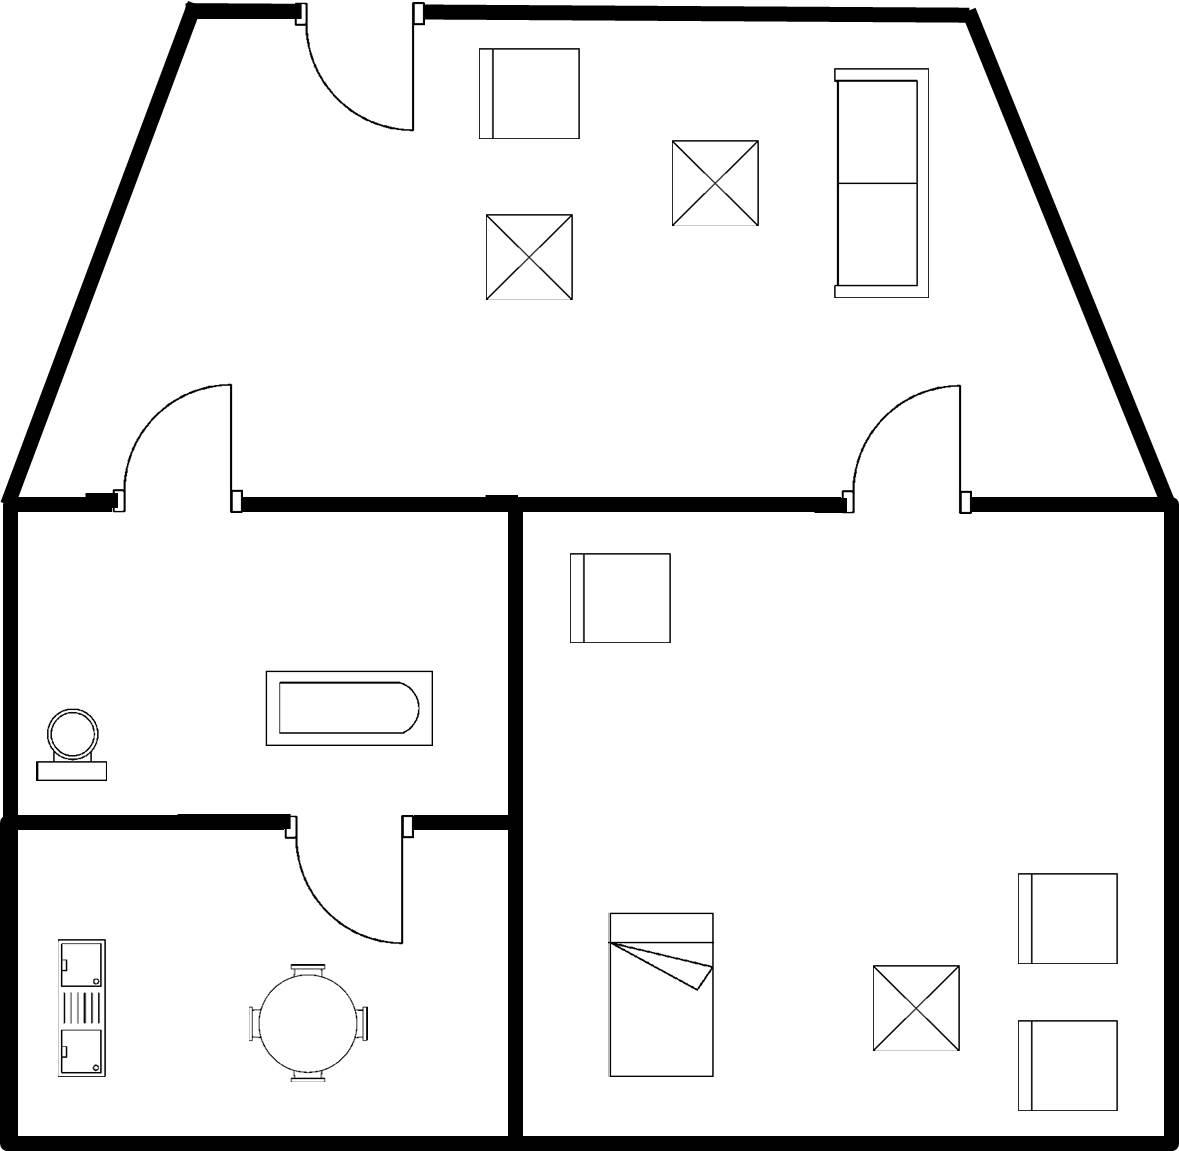sink: (46, 926, 115, 1086)
